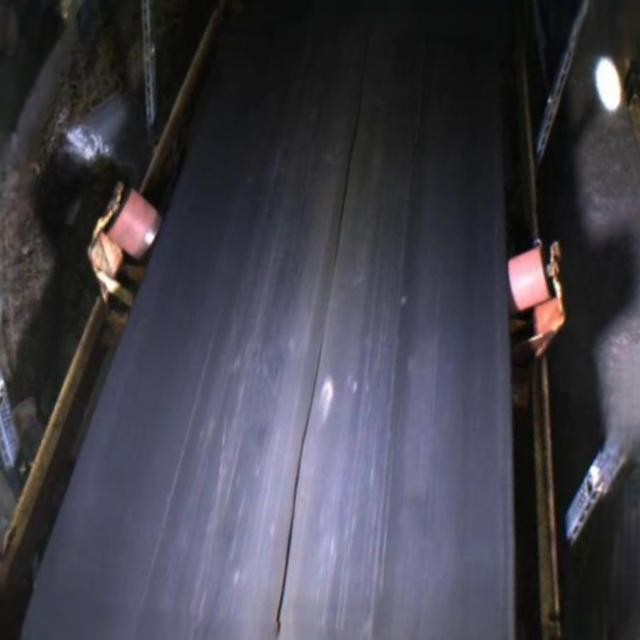Tear: (266, 50, 378, 640)
